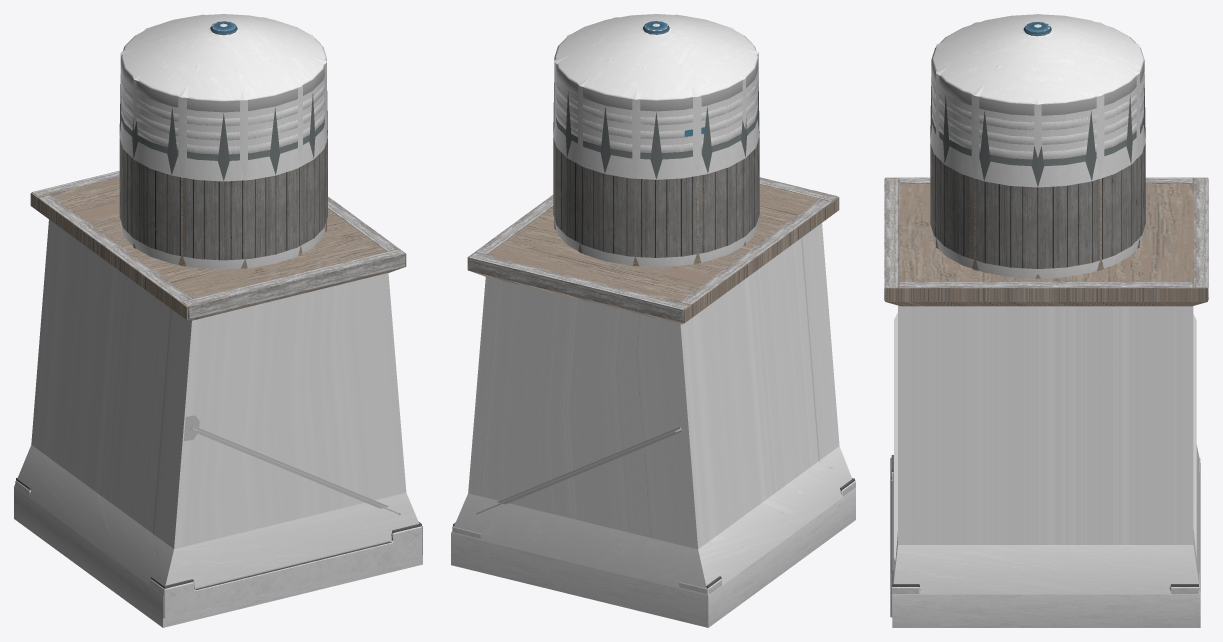
The model's file is si_water_tower.DAE.
3 views of the same model, side by side, from view 1: azimuth 30°, elevation 25°; view 2: azimuth 150°, elevation 25°; view 3: azimuth 270°, elevation 25° (orthographic). The views are drawn at different scales.
Parts seen in each view (by area): view 1: Colmesh-1, si_water_tower400, si_water_tower100, si_water_tower220, si_water_tower70; view 2: Colmesh-1, si_water_tower400, si_water_tower100, si_water_tower220, si_water_tower70; view 3: Colmesh-1, si_water_tower400, si_water_tower100, si_water_tower220, si_water_tower70.
Part boxes in pixels (x1,y1,x2,y2): Colmesh-1: (14,14,422,627); si_water_tower400: (15,14,422,618); si_water_tower100: (119,71,327,425); si_water_tower220: (120,69,324,146); si_water_tower70: (16,74,422,590); Colmesh-1: (451,14,855,627); si_water_tower400: (452,14,855,594); si_water_tower100: (553,70,759,431); si_water_tower220: (556,69,758,145); si_water_tower70: (453,71,855,588); Colmesh-1: (885,14,1207,627); si_water_tower400: (884,14,1208,617); si_water_tower100: (896,73,1145,320); si_water_tower220: (931,71,1144,151); si_water_tower70: (891,75,1198,590).
Size of the model in its own units: 320 by 335 by 612.
